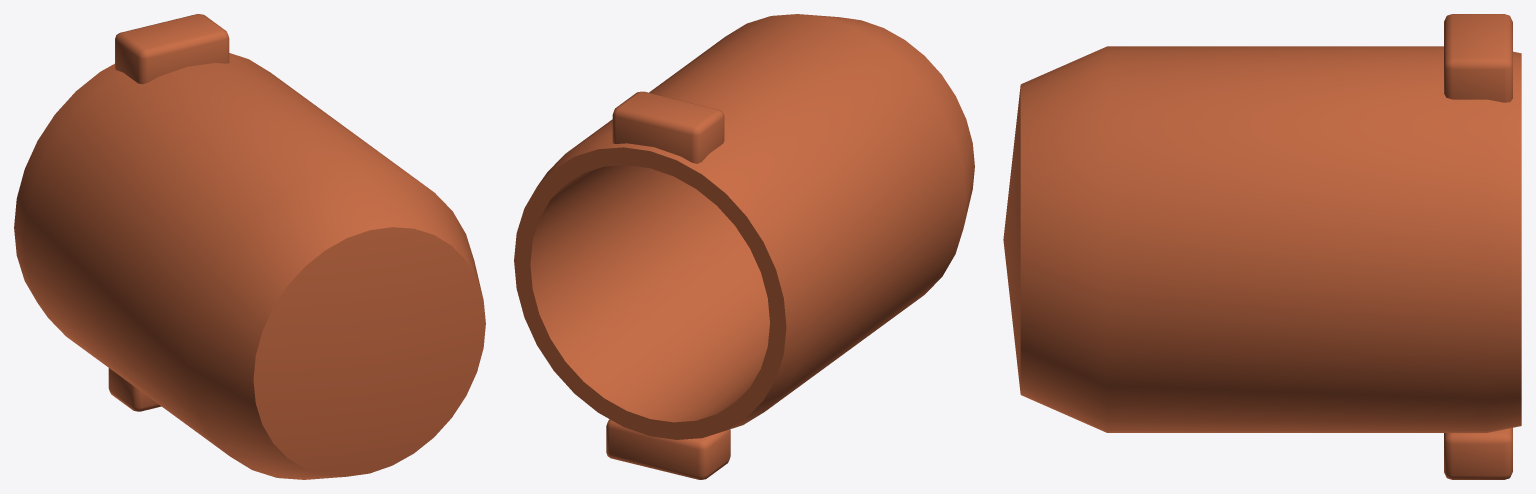
Rendered from flip_cap_adhesive_bottle_flip_cap.glb.
The picture shows the model from 3 angles, left to right: view 1: azimuth 30°, elevation 25°; view 2: azimuth 150°, elevation 25°; view 3: azimuth 270°, elevation 25°; orthographic projection. The views are drawn at different scales.
Parts seen in each view (by area): view 1: flip_cap_adhesive_bottle_flip_cap; view 2: flip_cap_adhesive_bottle_flip_cap; view 3: flip_cap_adhesive_bottle_flip_cap.
Part boxes in pixels (left/top/right/bottom): flip_cap_adhesive_bottle_flip_cap: left=14, top=14, right=485, bottom=479; flip_cap_adhesive_bottle_flip_cap: left=514, top=14, right=974, bottom=479; flip_cap_adhesive_bottle_flip_cap: left=1003, top=14, right=1521, bottom=479.
Size of the model in its own units: 0.0224 by 0.0267 by 0.03.
